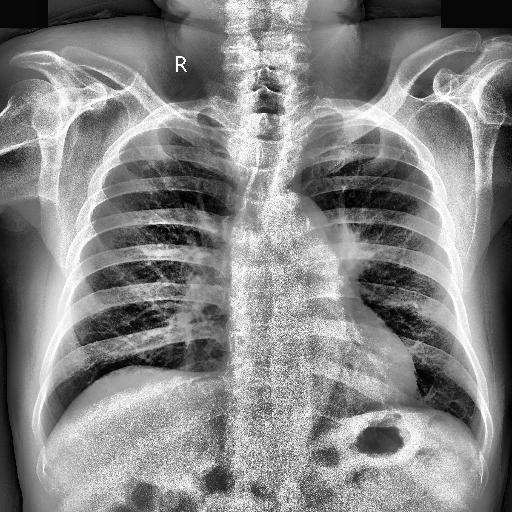0- Aortic enlargement: (260, 194, 338, 290), (253, 188, 332, 260), (254, 192, 330, 256)
